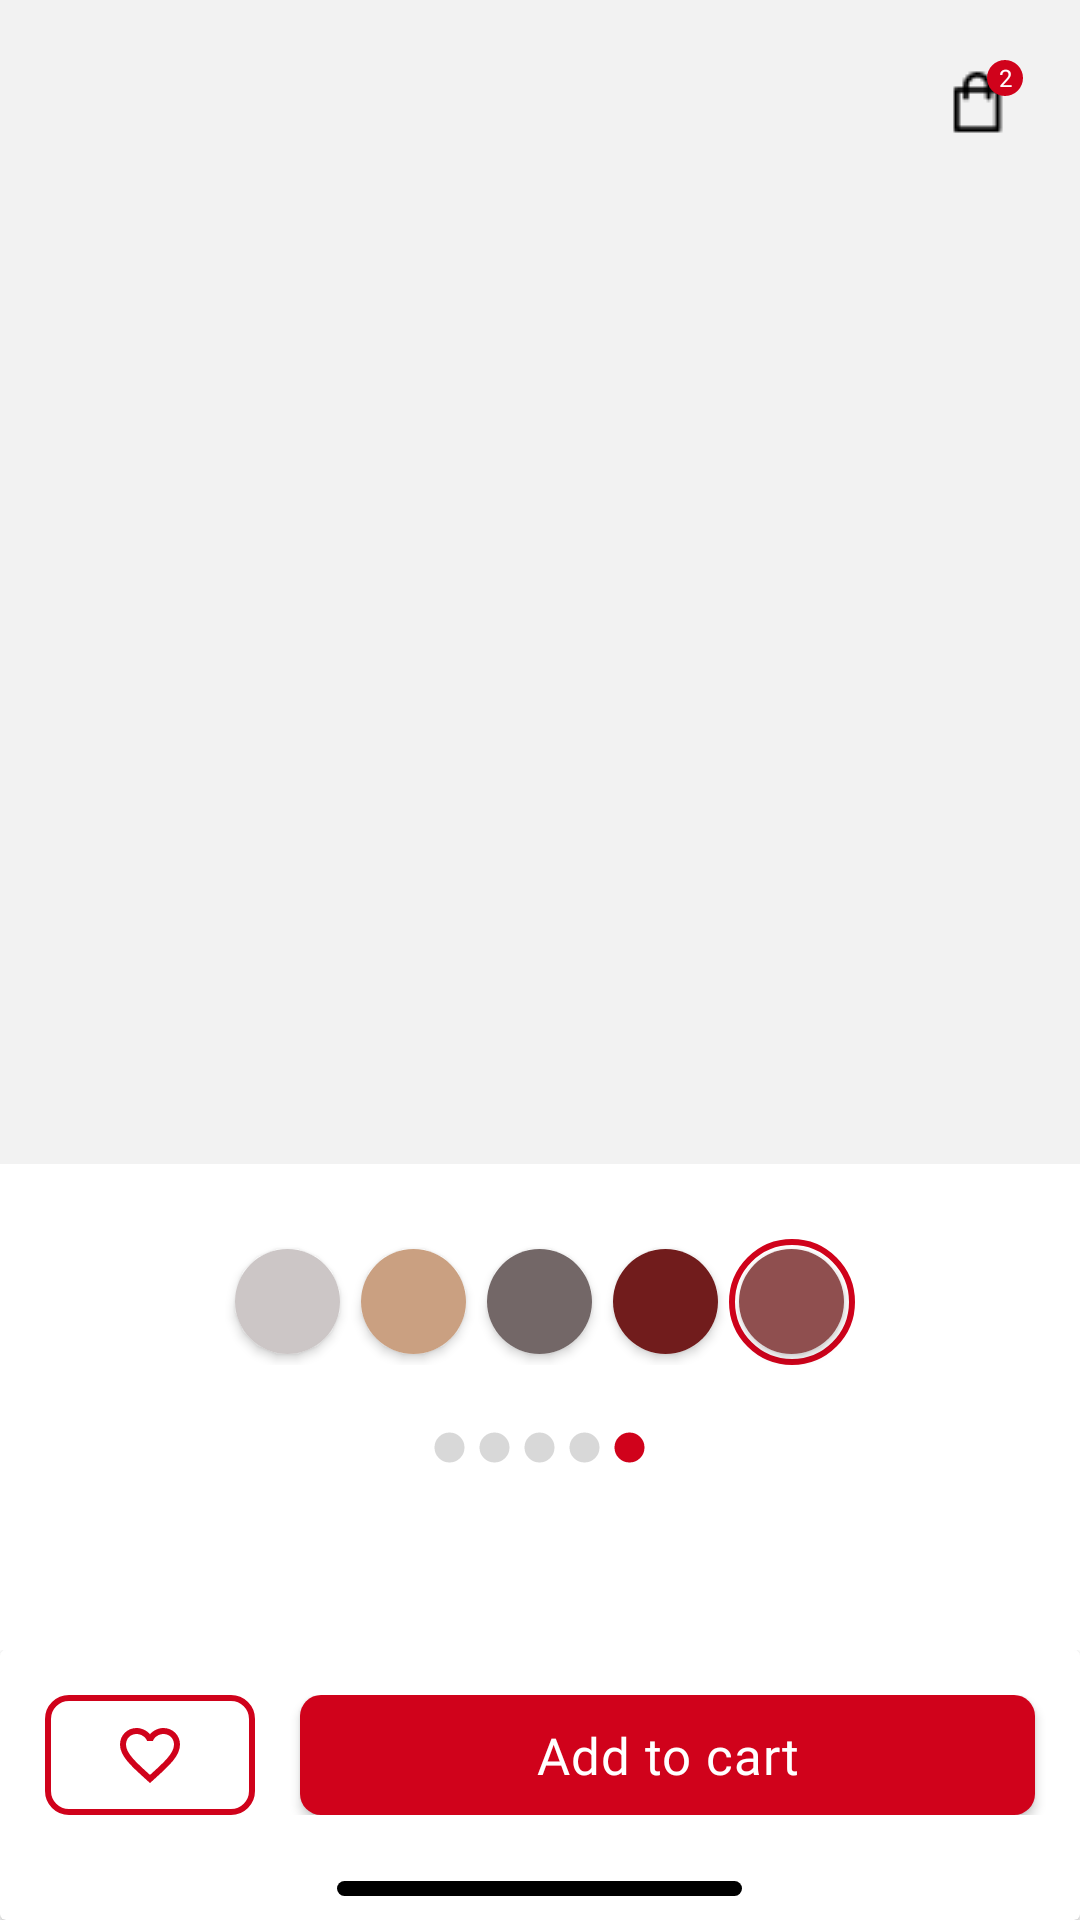

Where icons sit on this 1080w x 1920h app screen, as (x1, y1, x2, y2):
bag cart: (953, 60, 1020, 133)
dot: (614, 1432, 645, 1463)
favorite border: (45, 1695, 255, 1815)
